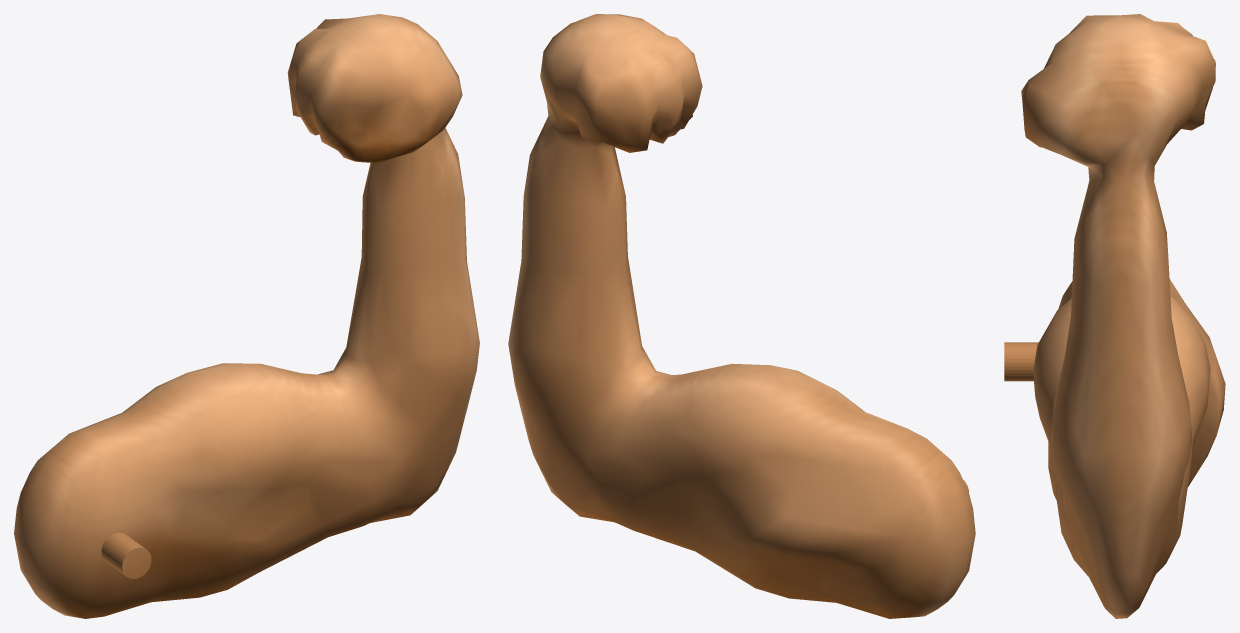
The model's file is muscle-arm.fbx.
3 renders of one model, left to right at view 1: azimuth 30°, elevation 25°; view 2: azimuth 150°, elevation 25°; view 3: azimuth 270°, elevation 25°, orthographic. The views are drawn at different scales.
Visible parts, largest first — view 1: lowpoly-arm, peg; view 2: lowpoly-arm; view 3: lowpoly-arm, peg.
Part boxes in pixels (x1=…): lowpoly-arm: x1=14, y1=14, x2=479, y2=618; peg: x1=101, y1=532, x2=151, y2=578; lowpoly-arm: x1=508, y1=14, x2=975, y2=618; lowpoly-arm: x1=1021, y1=14, x2=1225, y2=618; peg: x1=1004, y1=342, x2=1038, y2=381.
Bounding box in the file's own units: 769 × 863 × 283.
Materials: 1 (1 with a texture image).
